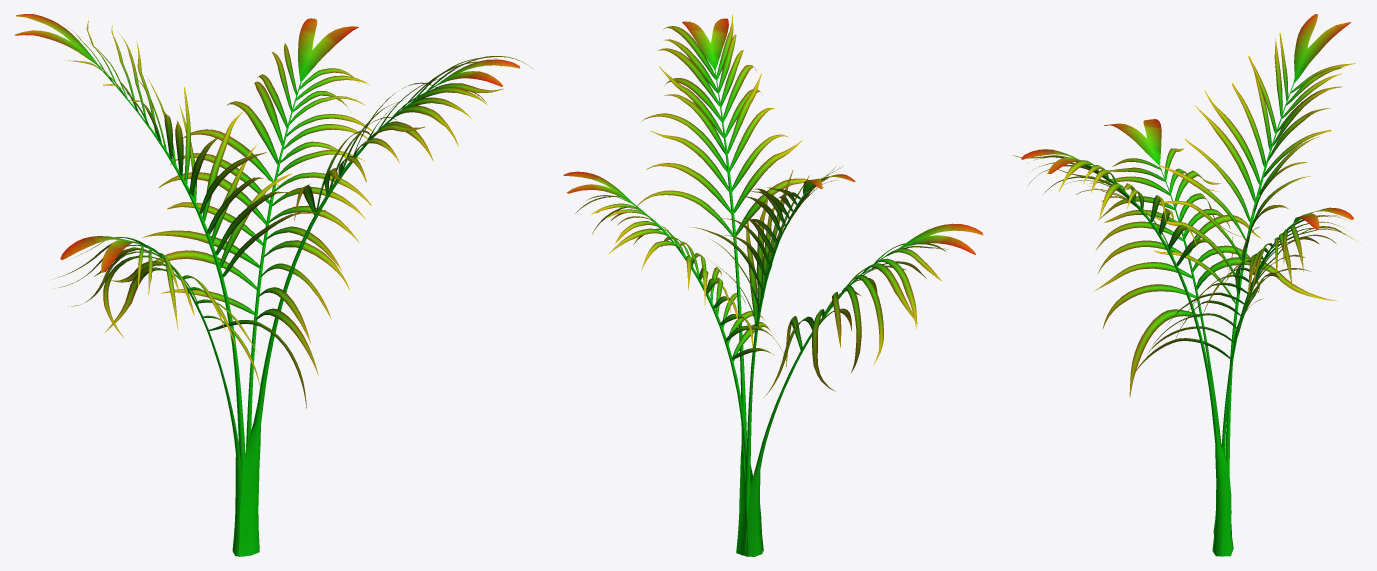
Rendered from Alexandra Palm_LOD1_Var4_ukgkcilia.fbx.
The picture shows the model from 3 angles, left to right: view 1: azimuth 30°, elevation 25°; view 2: azimuth 150°, elevation 25°; view 3: azimuth 270°, elevation 25°; orthographic projection. The views are drawn at different scales.
Parts seen in each view (by area): view 1: _q05g_Var4_LOD1; view 2: _q05g_Var4_LOD1; view 3: _q05g_Var4_LOD1.
Boxes of the visible parts, x1,y1,x2,y2 form: _q05g_Var4_LOD1: [15, 14, 533, 556]; _q05g_Var4_LOD1: [563, 14, 983, 556]; _q05g_Var4_LOD1: [1012, 14, 1358, 556].
Bounding box in the file's own units: 39.74 × 47.01 × 32.27.
